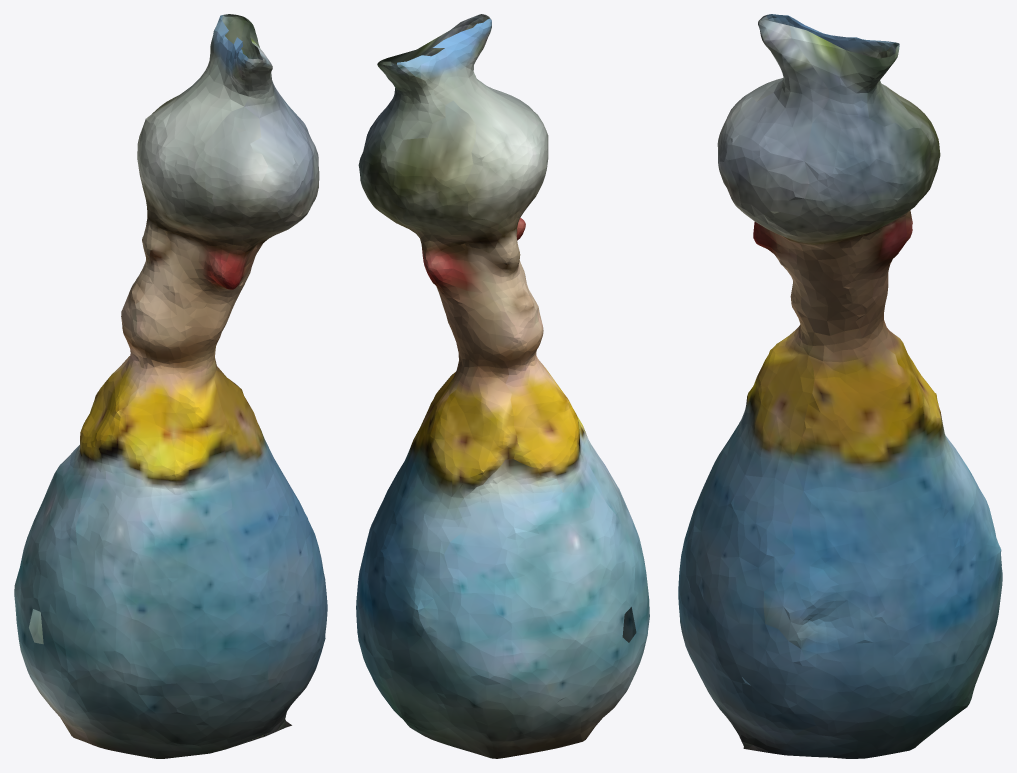
The model's file is parque.glb.
The picture shows the model from 3 angles, left to right: view 1: azimuth 30°, elevation 25°; view 2: azimuth 150°, elevation 25°; view 3: azimuth 270°, elevation 25°; orthographic projection. The views are drawn at different scales.
Visible parts, largest first — view 1: Scaniverse_2025_04_08_155603; view 2: Scaniverse_2025_04_08_155603; view 3: Scaniverse_2025_04_08_155603.
Boxes of the visible parts, left/top/right/bottom form: Scaniverse_2025_04_08_155603: left=14, top=14, right=327, bottom=758; Scaniverse_2025_04_08_155603: left=356, top=14, right=649, bottom=758; Scaniverse_2025_04_08_155603: left=678, top=14, right=1002, bottom=758.
Bounding box in the file's own units: 1.37 × 3.35 × 1.35.
1 material, 1 textured.
